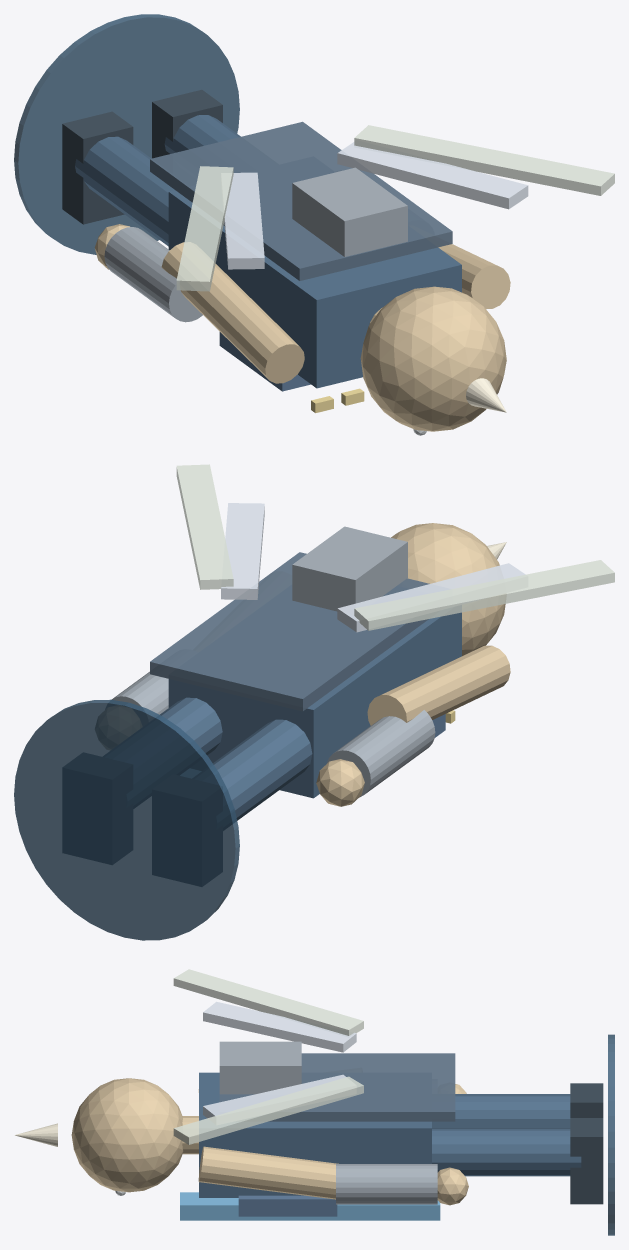
Rendered from SW_NPC_009_ilyra_galesong.glb.
3 renders of one model, top to bottom at view 1: azimuth 30°, elevation 25°; view 2: azimuth 150°, elevation 25°; view 3: azimuth 270°, elevation 25°, orthographic. The views are drawn at different scales.
Visible parts, largest first — view 1: round_base_plate, head, torso_uniform, storm_cloak, wingpack_core, left_upper_arm, right_feather_wing, left_leg, right_wing_rig, left_feather_wing, left_forearm_gauntlet, left_boot (+6 smaller); view 2: round_base_plate, storm_cloak, torso_uniform, wingpack_core, left_feather_wing, head, left_upper_arm, left_leg, right_feather_wing, left_forearm_gauntlet, right_wing_rig, left_wing_rig (+3 smaller); view 3: head, torso_uniform, storm_cloak, right_leg, right_upper_arm, left_leg, wingpack_core, right_forearm_gauntlet, right_feather_wing, left_feather_wing, rank_sash, left_wing_rig (+7 smaller).
Part boxes in pixels (box(x1,y1,x2,y2)): round_base_plate: box(14, 14, 239, 254); head: box(360, 286, 506, 431); torso_uniform: box(168, 190, 461, 388); storm_cloak: box(150, 121, 452, 280); wingpack_core: box(292, 167, 407, 256); left_upper_arm: box(161, 242, 304, 383); right_feather_wing: box(354, 125, 614, 195); left_leg: box(75, 136, 174, 246); right_wing_rig: box(337, 142, 528, 209); left_feather_wing: box(176, 166, 233, 291); left_forearm_gauntlet: box(104, 227, 202, 322); left_boot: box(62, 111, 133, 224); round_base_plate: box(14, 699, 239, 940); storm_cloak: box(150, 552, 429, 711); torso_uniform: box(168, 612, 461, 798); wingpack_core: box(292, 526, 407, 611); left_feather_wing: box(354, 560, 614, 630); head: box(391, 523, 505, 655); left_upper_arm: box(367, 645, 510, 725); left_leg: box(213, 719, 312, 820); right_feather_wing: box(176, 464, 233, 589); left_forearm_gauntlet: box(326, 710, 435, 797); right_wing_rig: box(221, 503, 264, 599); left_wing_rig: box(337, 563, 525, 632); head: box(71, 1078, 183, 1192); torso_uniform: box(199, 1072, 431, 1197); storm_cloak: box(219, 1053, 455, 1121); right_leg: box(432, 1128, 581, 1176); right_upper_arm: box(198, 1146, 338, 1199); left_leg: box(432, 1094, 570, 1128); wingpack_core: box(219, 1041, 301, 1094); right_forearm_gauntlet: box(336, 1164, 437, 1204); right_feather_wing: box(173, 1076, 363, 1144); left_feather_wing: box(173, 969, 363, 1035); rank_sash: box(180, 1192, 440, 1220); left_wing_rig: box(203, 1001, 356, 1052).
Size of the model in its own units: 1.5 by 0.756 by 2.26.
